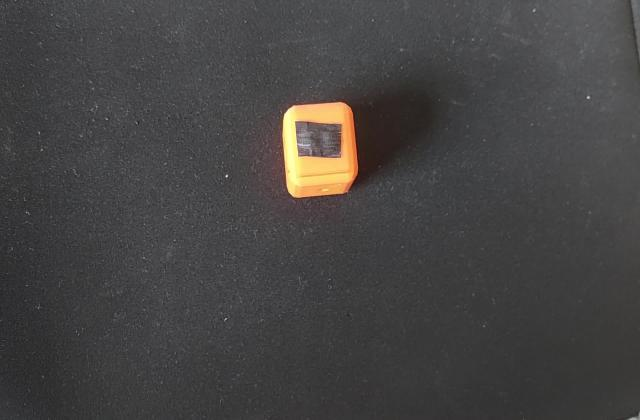black: (290, 118, 346, 162)
sticker: (278, 96, 360, 202)
